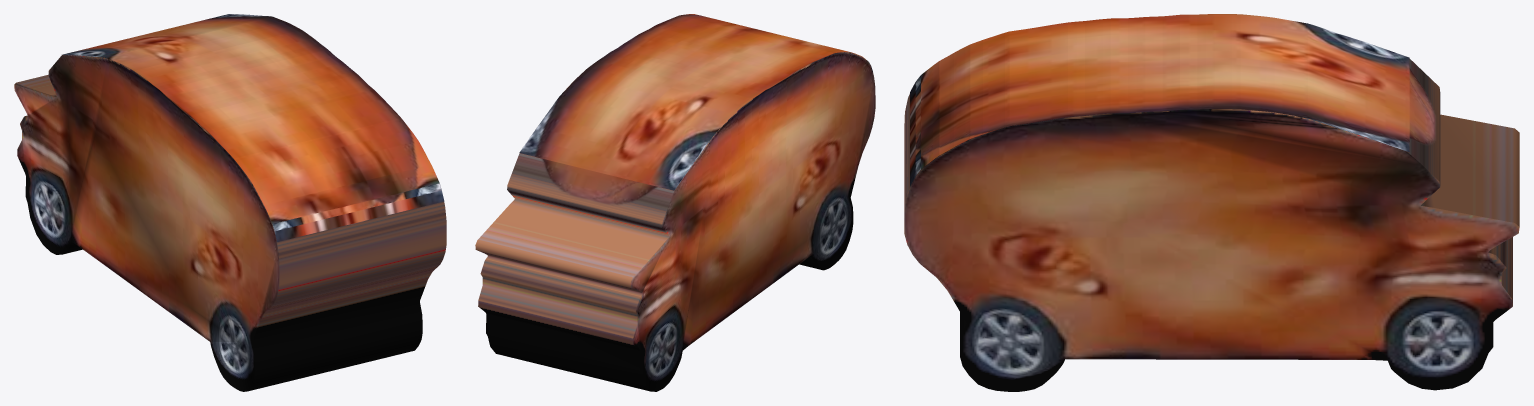
File: dababycar.glb
3 renders of one model, left to right at view 1: azimuth 30°, elevation 25°; view 2: azimuth 150°, elevation 25°; view 3: azimuth 270°, elevation 25°, orthographic. The views are drawn at different scales.
Parts seen in each view (by area): view 1: dababy_obj, biblically_acc_dababy; view 2: dababy_obj, biblically_acc_dababy; view 3: dababy_obj, biblically_acc_dababy.
Boxes of the visible parts, box(x1,y1,x2,y2) form: dababy_obj: box(14, 55, 446, 391); biblically_acc_dababy: box(62, 14, 444, 241); dababy_obj: box(475, 52, 875, 391); biblically_acc_dababy: box(519, 14, 872, 205); dababy_obj: box(904, 59, 1519, 391); biblically_acc_dababy: box(909, 14, 1435, 185).
Size of the model in its own units: 1.72 by 2.38 by 4.68.
Materials: 2 (2 with a texture image).
